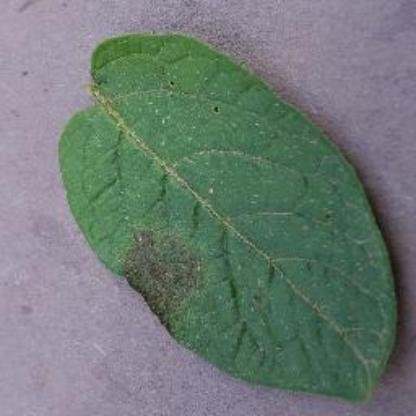Late-Blight: (56, 27, 401, 403)
